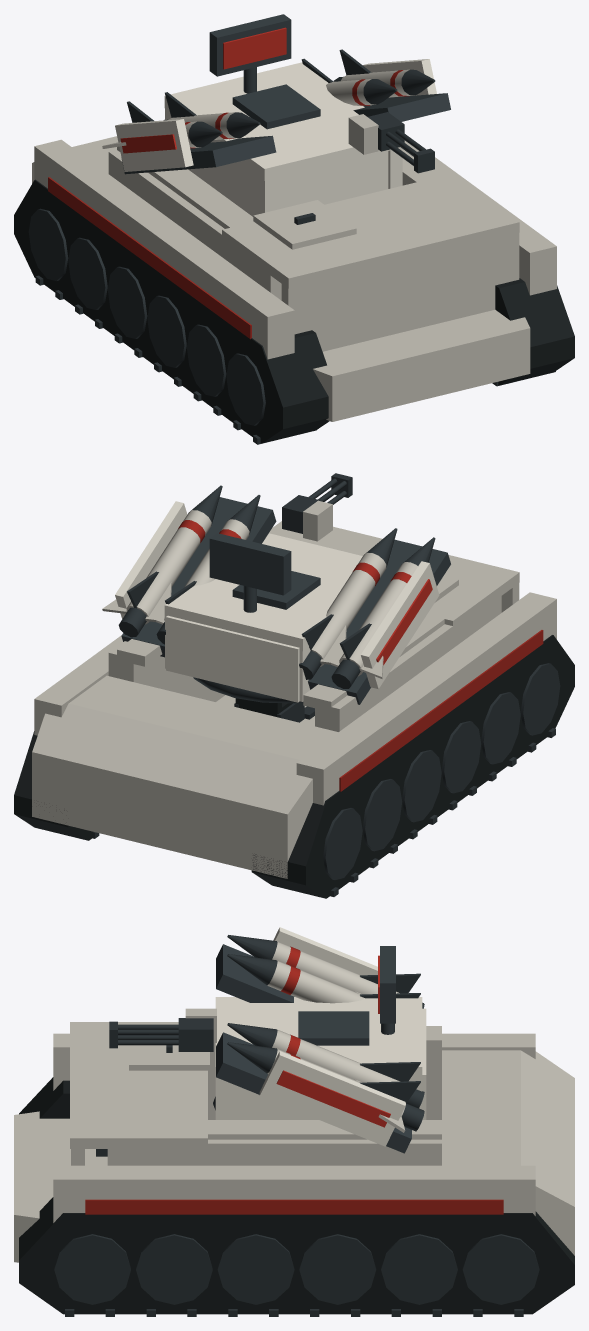
3 views of the same model, one above another, from view 1: azimuth 30°, elevation 25°; view 2: azimuth 150°, elevation 25°; view 3: azimuth 270°, elevation 25° (orthographic). The views are drawn at different scales.
Parts seen in each view (by area): view 1: aa-tank-painted, turret-fleet-armor, breakaway-0-painted, turret-fleet-machine, breakaway-1-painted, launcher-left-fleet-armor, radar-fleet-machine, launcher-left-fleet-machine, machine-gun-pitch-roof-painted, radar-fleet-red, store-tank-1-0.23-painted, launcher-right-fleet-machine (+6 smaller); view 2: aa-tank-painted, turret-fleet-armor, breakaway-0-painted, store-tank-1-0.23-painted, store-tank--1-0.23-painted, radar-fleet-machine, store-tank--1--0.23-painted, launcher-left-fleet-armor, launcher-left-fleet-machine, launcher-right-fleet-machine, breakaway-1-painted, launcher-right-fleet-armor (+6 smaller); view 3: aa-tank-painted, breakaway-1-painted, turret-fleet-armor, launcher-right-fleet-armor, store-tank-1--0.23-painted, store-tank--1--0.23-painted, store-tank--1-0.23-painted, breakaway-0-painted, turret-fleet-machine, store-tank-1-0.23-painted, launcher-right-fleet-machine, launcher-left-fleet-machine (+5 smaller).
Boxes of the visible parts, x1,y1,x2,y2 form: aa-tank-painted: [14, 136, 574, 444]; turret-fleet-armor: [164, 62, 402, 216]; breakaway-0-painted: [34, 139, 294, 359]; turret-fleet-machine: [232, 67, 320, 129]; breakaway-1-painted: [404, 140, 556, 295]; launcher-left-fleet-armor: [115, 119, 193, 171]; radar-fleet-machine: [209, 14, 291, 76]; launcher-left-fleet-machine: [121, 135, 276, 174]; machine-gun-pitch-roof-painted: [348, 112, 404, 154]; radar-fleet-red: [223, 27, 286, 69]; store-tank-1-0.23-painted: [333, 49, 435, 97]; launcher-right-fleet-machine: [353, 93, 450, 121]; aa-tank-painted: [14, 521, 574, 898]; turret-fleet-armor: [164, 533, 362, 702]; breakaway-0-painted: [296, 592, 556, 805]; store-tank-1-0.23-painted: [102, 485, 222, 637]; store-tank--1-0.23-painted: [299, 528, 397, 679]; radar-fleet-machine: [209, 533, 291, 595]; store-tank--1--0.23-painted: [320, 537, 435, 688]; launcher-left-fleet-armor: [361, 561, 439, 688]; launcher-left-fleet-machine: [308, 539, 450, 704]; launcher-right-fleet-machine: [121, 497, 276, 657]; breakaway-1-painted: [34, 635, 122, 735]; launcher-right-fleet-armor: [115, 501, 187, 618]; aa-tank-painted: [14, 1022, 574, 1316]; breakaway-1-painted: [53, 1165, 535, 1222]; turret-fleet-armor: [215, 997, 426, 1119]; launcher-right-fleet-armor: [259, 1051, 405, 1146]; store-tank-1--0.23-painted: [227, 1023, 424, 1108]; store-tank--1--0.23-painted: [227, 935, 424, 1008]; store-tank--1-0.23-painted: [227, 954, 420, 1003]; breakaway-0-painted: [53, 1033, 535, 1090]; turret-fleet-machine: [298, 1011, 394, 1045]; store-tank-1-0.23-painted: [227, 1042, 424, 1132]; launcher-right-fleet-machine: [216, 1032, 411, 1153]; launcher-left-fleet-machine: [216, 944, 294, 1002].
Bounding box in the file's own units: 21.39 × 18.35 × 33.68.
